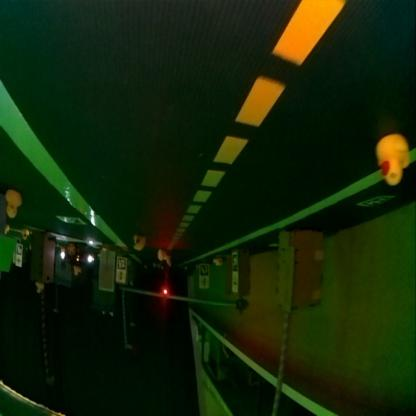Duckie: (376, 134, 406, 186), (4, 192, 21, 219), (132, 235, 144, 252), (157, 251, 165, 261), (35, 286, 41, 294), (72, 268, 78, 276), (22, 233, 28, 240), (218, 258, 221, 265)
Duckiebot: (60, 243, 94, 267)
Intersection sign: (232, 274, 238, 292), (199, 278, 208, 288)
QR code: (358, 195, 391, 211), (57, 218, 86, 226), (116, 259, 126, 271), (199, 265, 209, 277), (232, 253, 238, 273)
Signal sign: (115, 271, 124, 283)
Traffic light: (162, 289, 168, 297)
